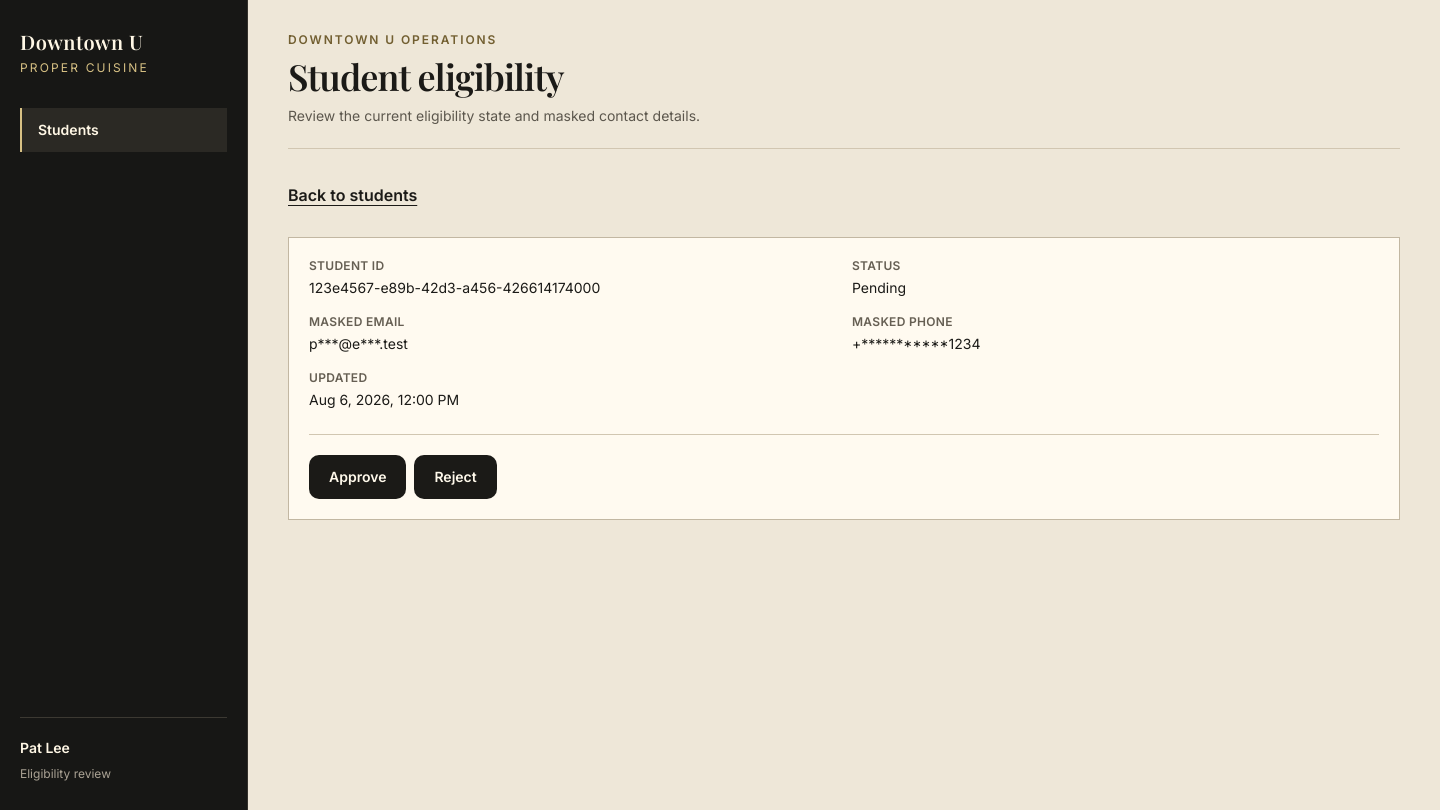
Test: eligibility mutation wizard › keeps a conflated 401 wrong-OTP/session response generic without purging the operator session
The width and height of the screenshot is (1440, 810).
Click the button "Approve" at x=358, y=477, box [309, 455, 406, 499]
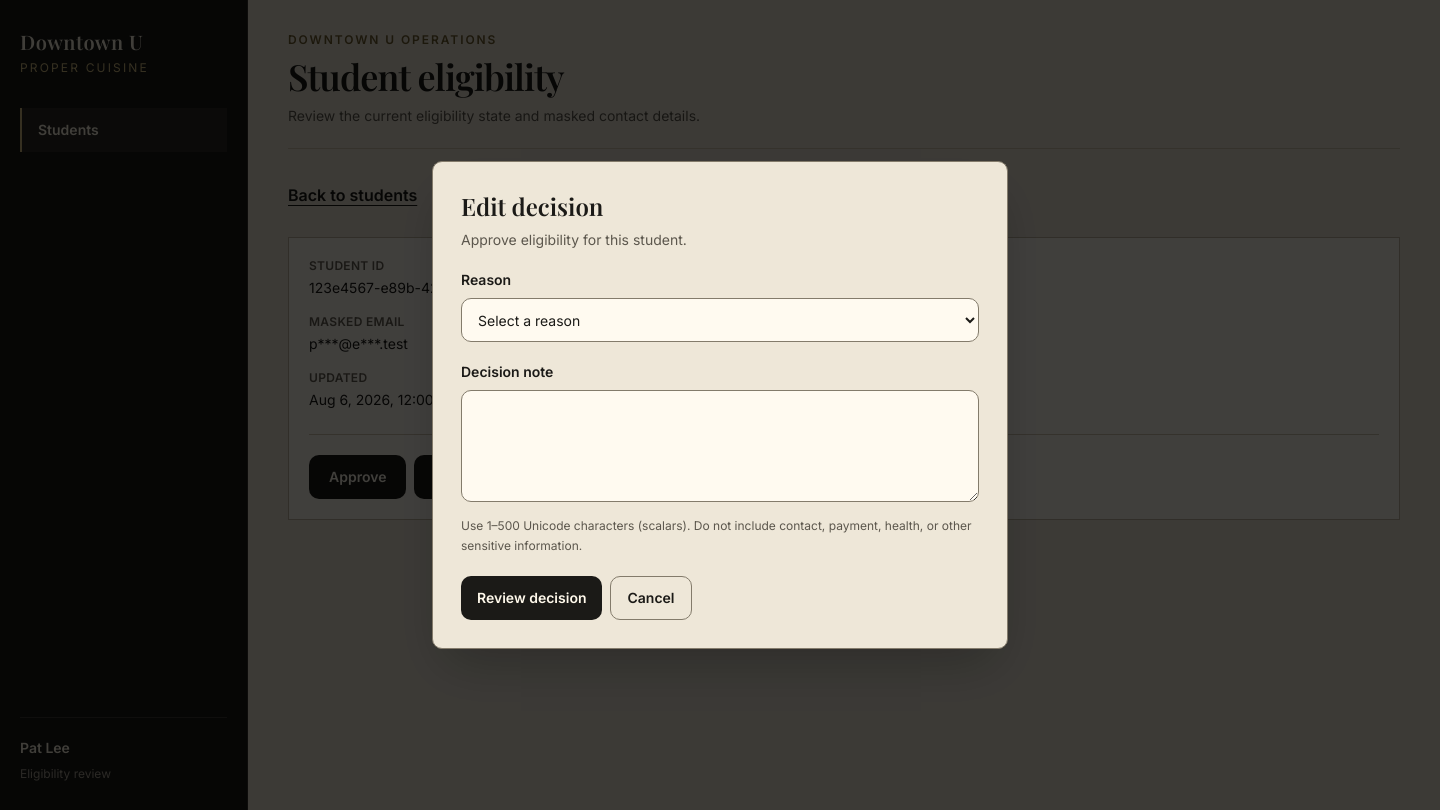
Select "Documentation verified" in the dropdown labelled "Reason" at x=720, y=320, box [461, 298, 979, 342]
Type "Documents verified" into the text box labelled "Decision note" at x=720, y=446, box [461, 390, 979, 502]
Click the button "Review decision" at x=532, y=598, box [461, 576, 602, 620]
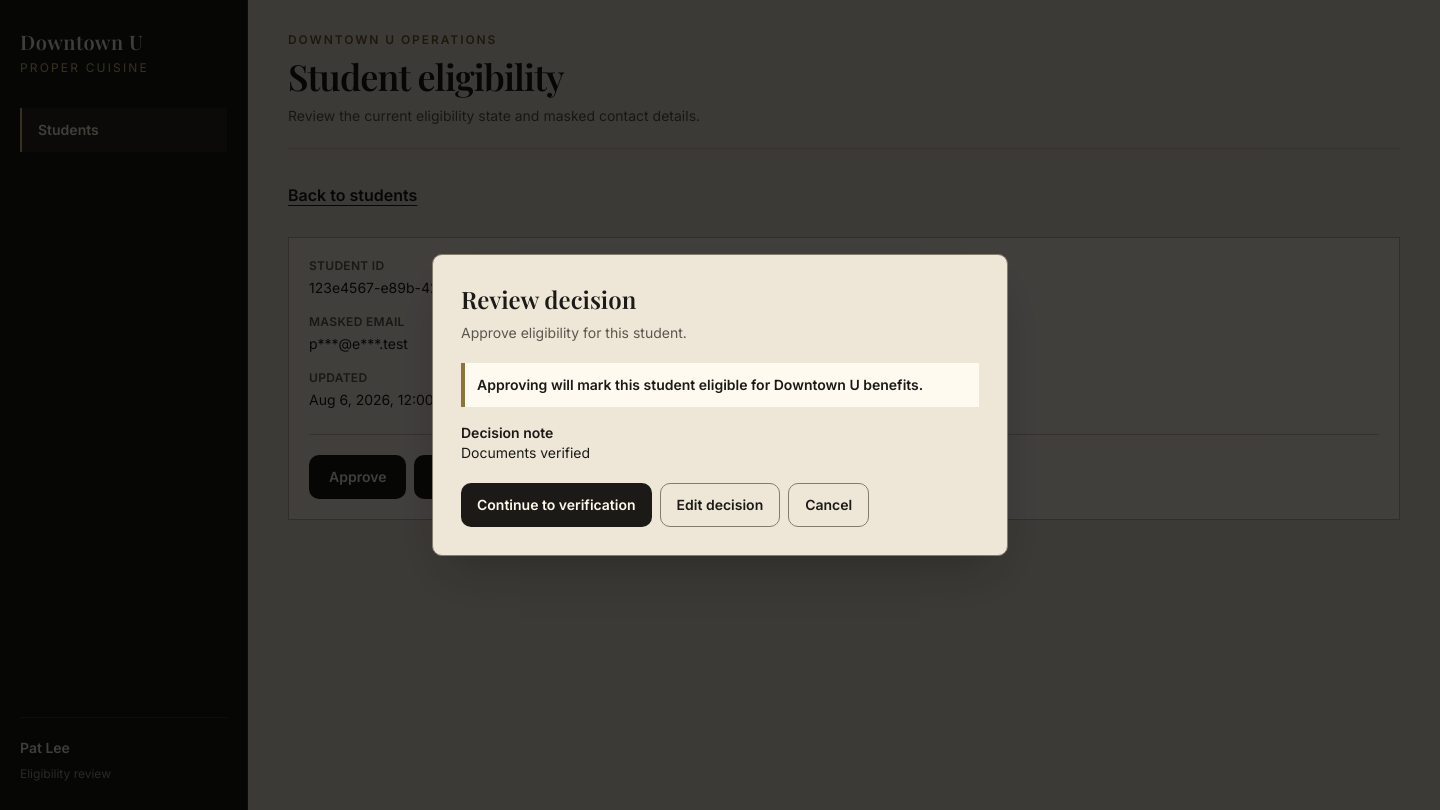
Click the button "Continue to verification" at x=556, y=505, box [461, 483, 652, 527]
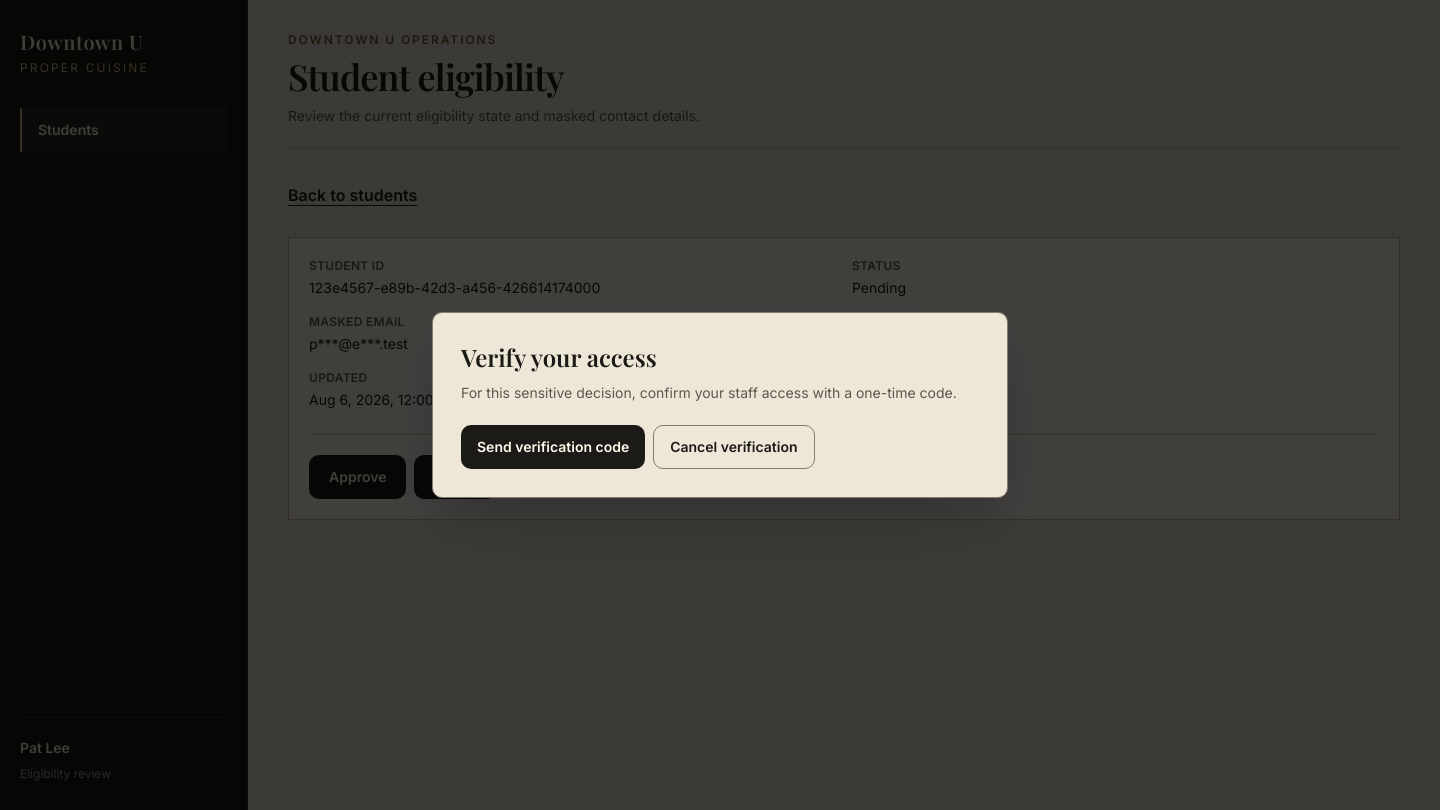
Click the button "Send verification code" at x=553, y=447, box [461, 425, 645, 469]
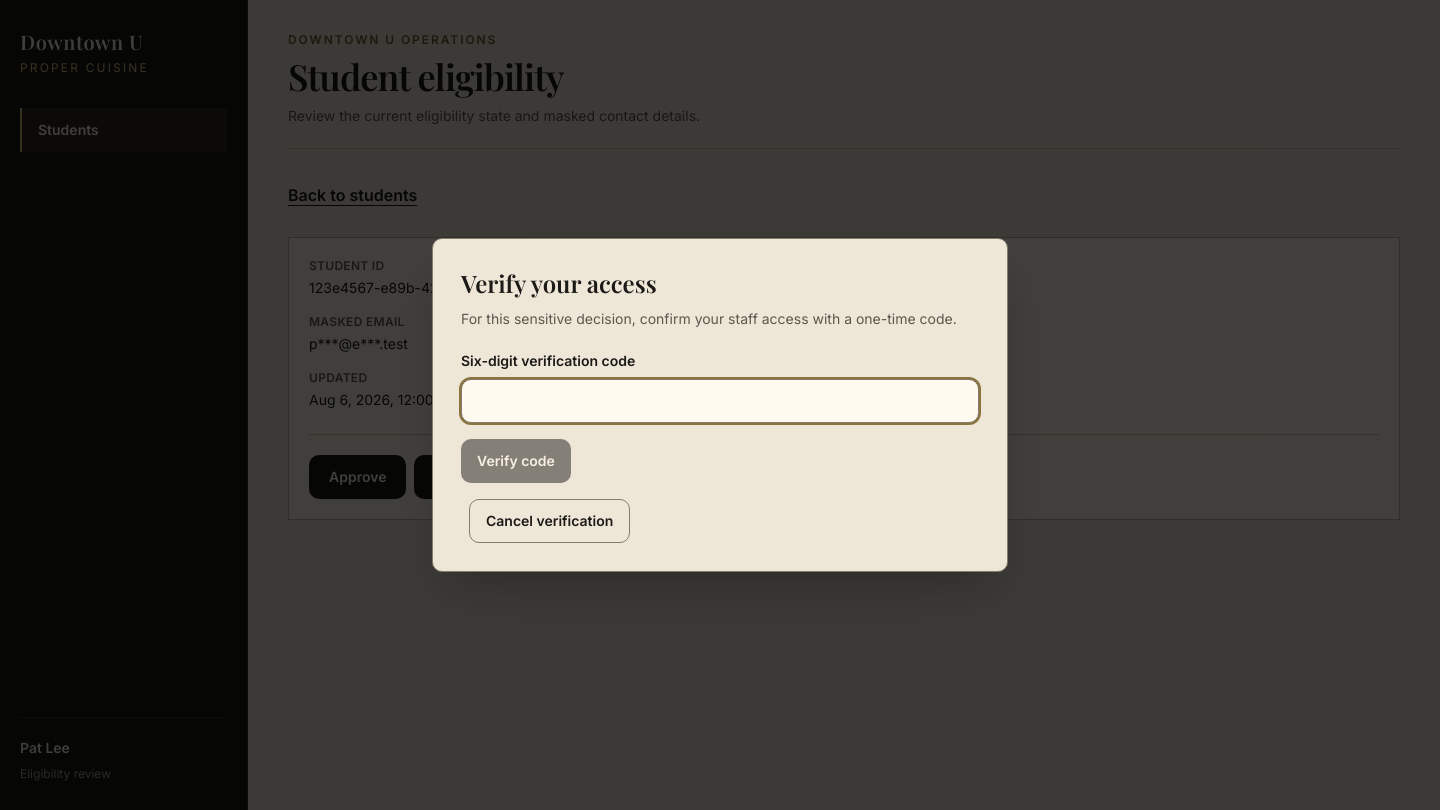
Type "012345" into the field labelled "Six-digit verification code" at x=720, y=401, box [461, 379, 979, 423]
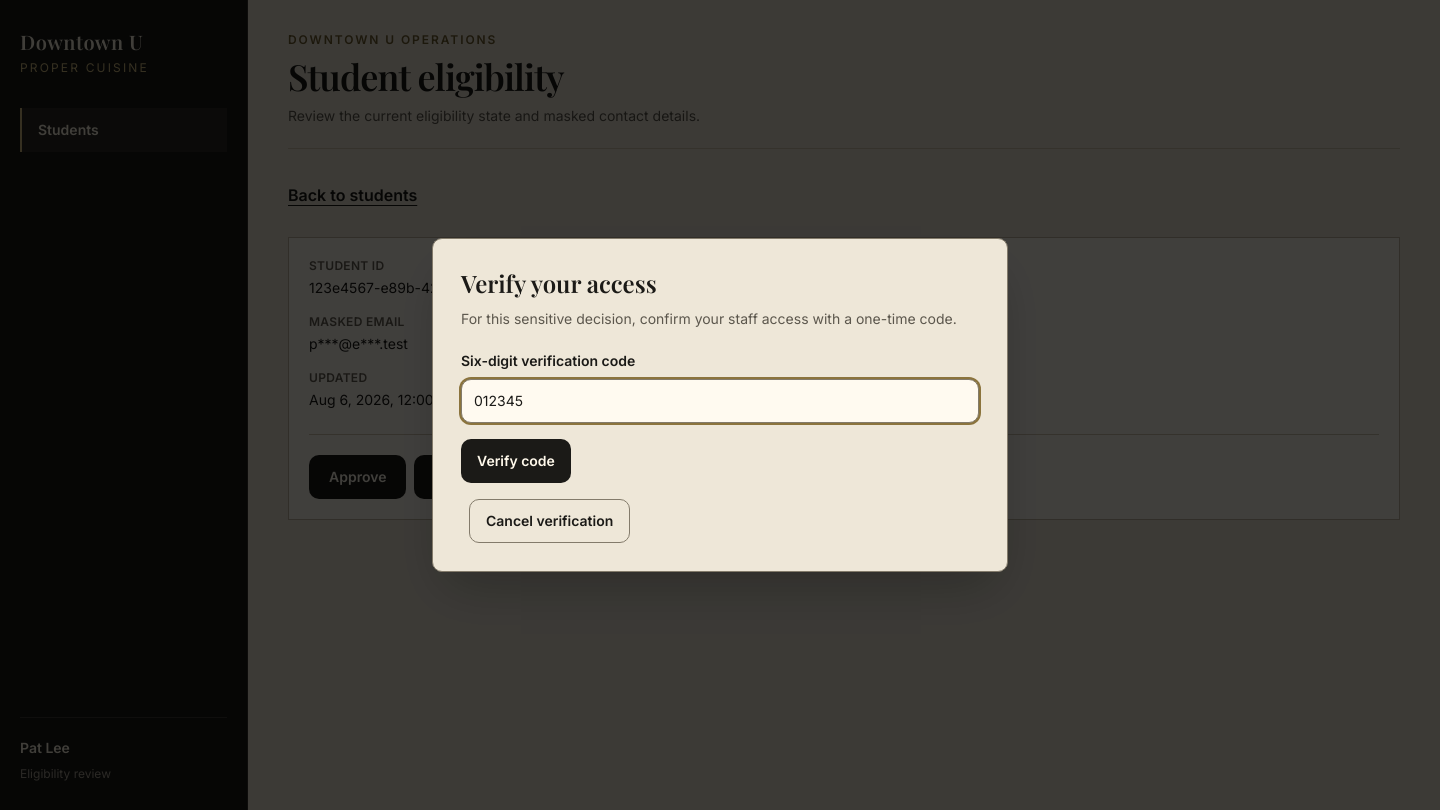
Click the button "Verify code" at x=516, y=461, box [461, 439, 571, 483]
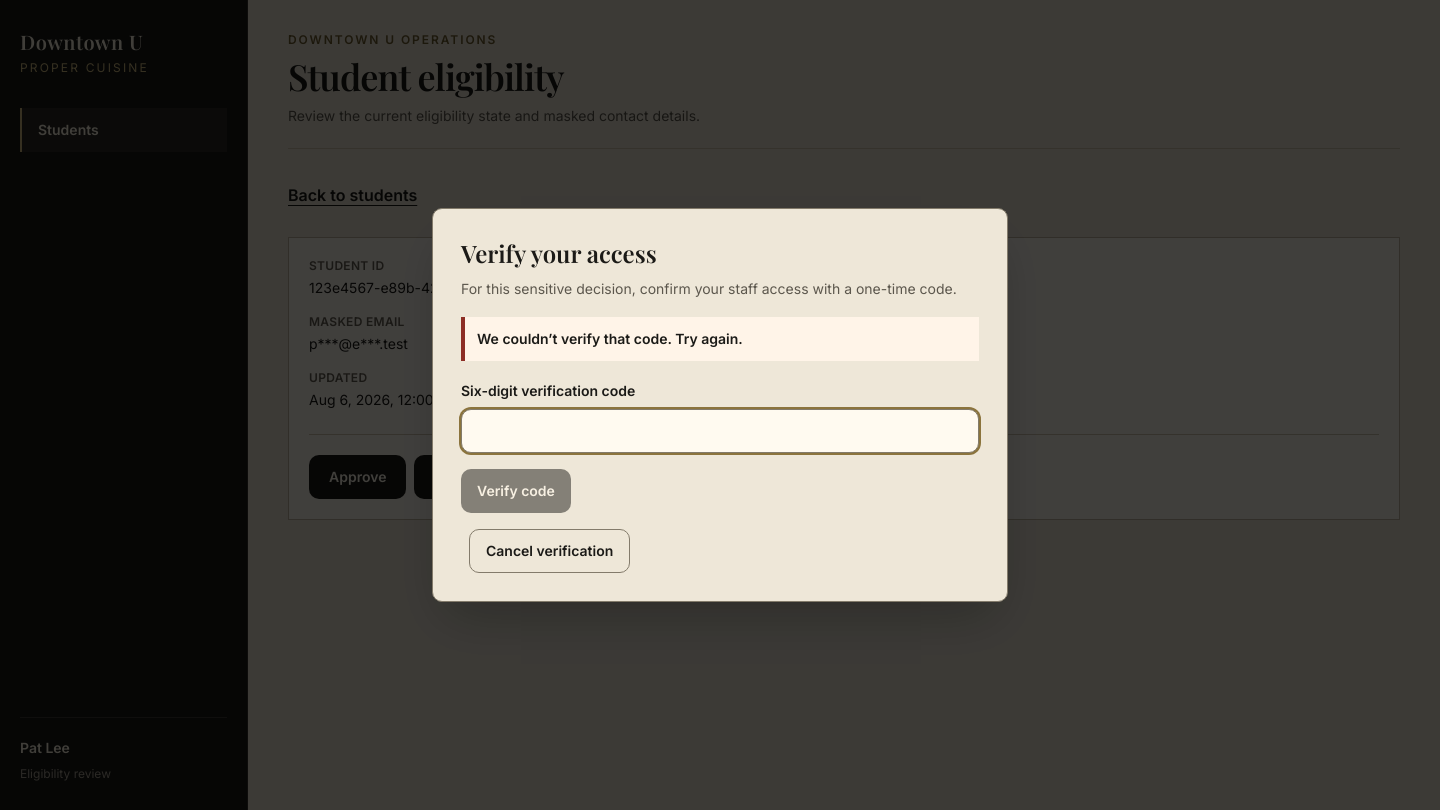
Check: the heading "Verify your access" is shown, box [461, 237, 657, 269]
Check: the message shows "couldn’t verify that code", box [477, 330, 743, 347]
